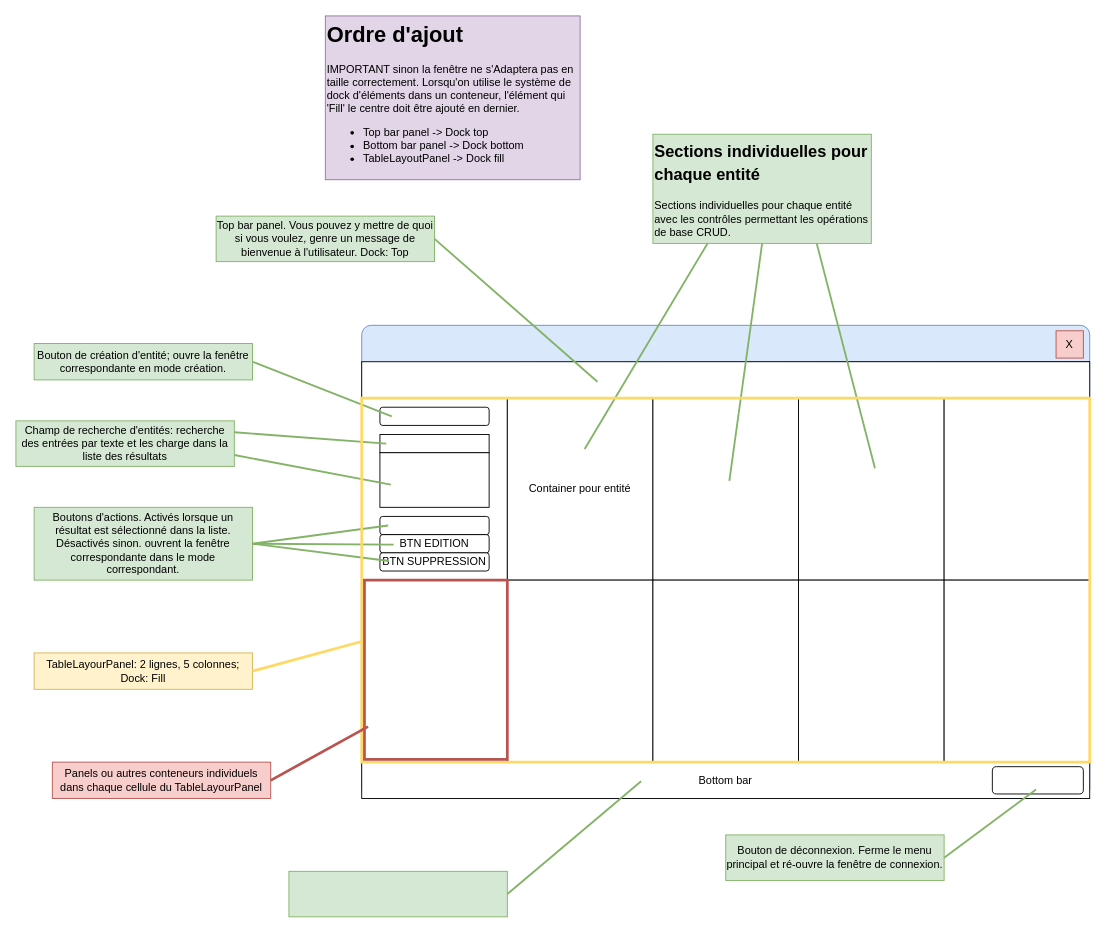
This 1107x933 diagram has some shape labels left out. Each missing label, with the centre of its shape:
"Bottom bar panel. Dock: Bottom" belongs at pixel 397 893.
"BTN CREATION" belongs at pixel 434 415.
"BTN LOGOUT" belongs at pixel 1037 780.
"BTN VISUALISATION" belongs at pixel 434 525.
"CHMP RECHERCHE" belongs at pixel 434 443.
"LIST RESULTATS RECHERCHE" belongs at pixel 434 479.
"Top bar" belongs at pixel 725 379.
